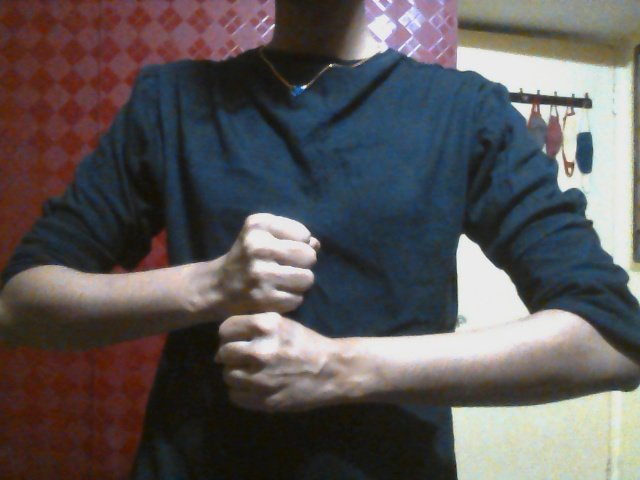G: (211, 212, 356, 416)
